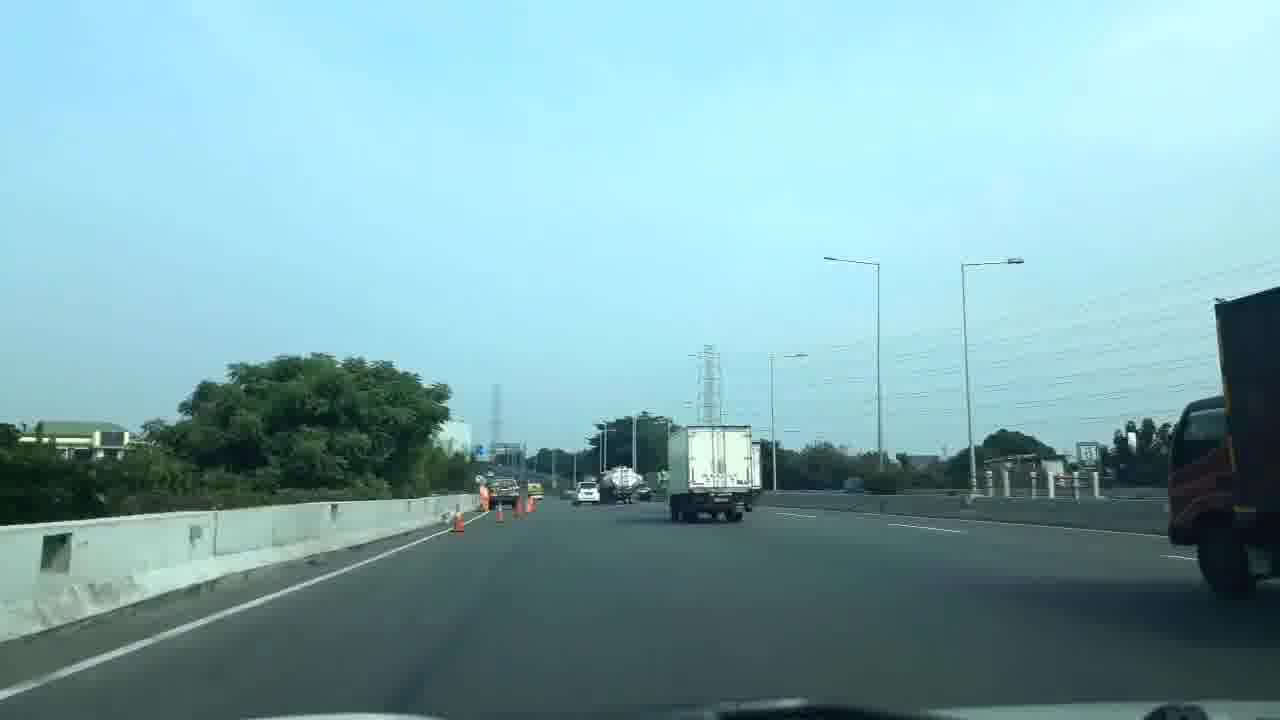plate_positive: (712, 497, 729, 503)
